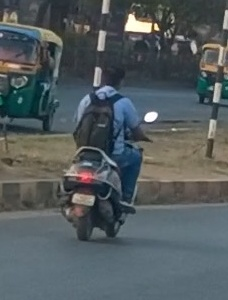BikeWithRider: (52, 60, 162, 243)
NoHelmet: (96, 61, 129, 93)
